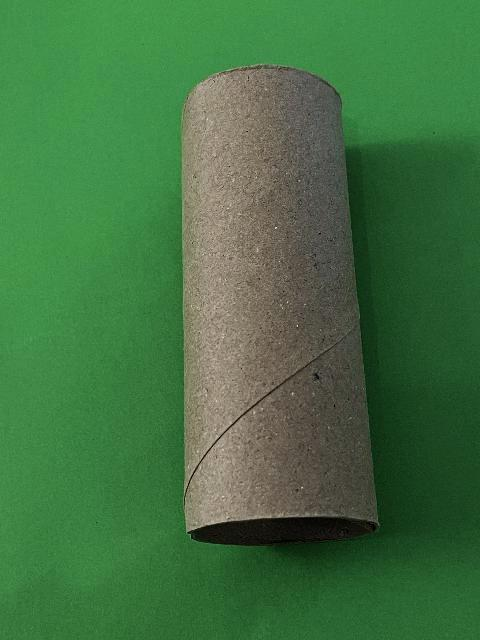tissueroll: (179, 62, 382, 548)
